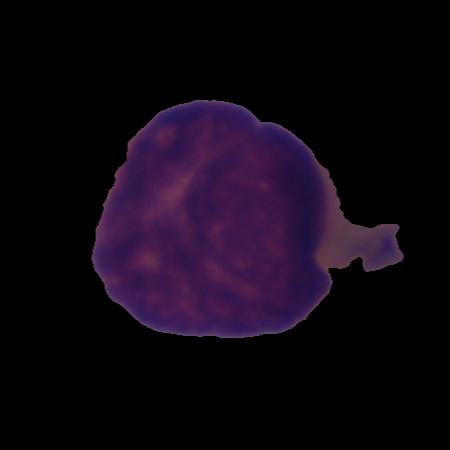ALL: (88, 97, 407, 341)
